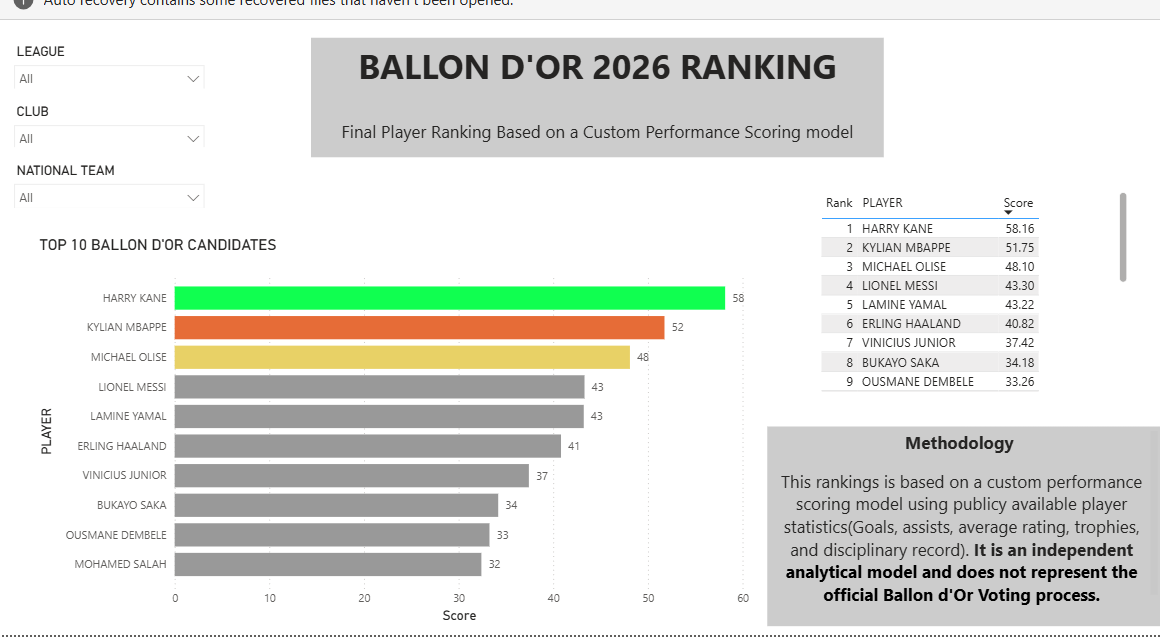

This screenshot's page, from the dashboard's own definition file:
{"tool":"powerbi","page":{"name":"BALLON D'OR RANKING","canvas":[1280,720],"ordinal":1},"visuals":[{"type":"tableEx","fields":{"Values":["RANKING.Rank","RANKING.PLAYER","RANKING.Score"]},"box":[899.9,229.3,347,229.3],"z":0},{"type":"clusteredBarChart","title":"TOP 10 BALLON D''OR CANDIDATES","fields":{"Category":["RANKING.PLAYER"],"Y":["Sum(RANKING.Score)"]},"box":[42.8,280.8,791.1,430.5],"z":1000},{"type":"textbox","box":[345.7,65,629,131.2],"z":2000},{"type":"textbox","box":[846,491.6,434,219.5],"z":3000},{"type":"slicer","fields":{"Values":["PLAYERS.LEAGUE"]},"box":[10,65.6,229.5,54.2],"z":4000},{"type":"slicer","fields":{"Values":["PLAYERS.CLUB"]},"box":[10,131.1,229.5,52.7],"z":5000},{"type":"slicer","fields":{"Values":["PLAYERS.NATIONAL TEAM"]},"box":[10,196.7,229.5,55.6],"z":6000}]}

Visuals, with their boxes on the page's 1280x720 design canvas (x1, y1, x2, y2). These are canvas units, not pixel positions in the 1160x640 screenshot, which may show the page scaled, cropped or inside an application window:
tableEx - RANKING.Rank x RANKING.PLAYER: 900,229,1247,459
"TOP 10 BALLON D''OR CANDIDATES" clusteredBarChart: 43,281,834,711
textbox: 346,65,975,196
textbox: 846,492,1280,711
slicer - PLAYERS.LEAGUE: 10,66,240,120
slicer - PLAYERS.CLUB: 10,131,240,184
slicer - PLAYERS.NATIONAL TEAM: 10,197,240,252
